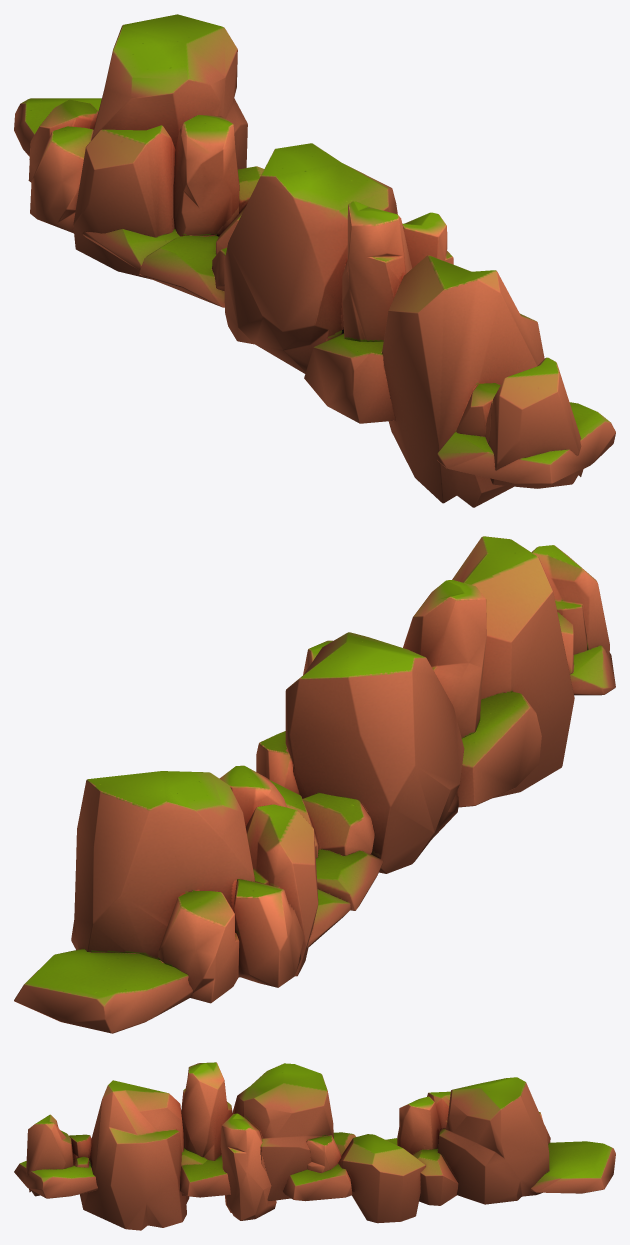
File: WallRocks_02.fbx
3 renders of one model, top to bottom at view 1: azimuth 30°, elevation 25°; view 2: azimuth 150°, elevation 25°; view 3: azimuth 270°, elevation 25°, orthographic. The views are drawn at different scales.
Parts seen in each view (by area): view 1: RockFountainLight_low.019; view 2: RockFountainLight_low.019; view 3: RockFountainLight_low.019.
Part boxes in pixels (x1,y1,x2,y2): RockFountainLight_low.019: (14, 14, 615, 507); RockFountainLight_low.019: (14, 536, 615, 1033); RockFountainLight_low.019: (14, 1062, 615, 1230).
Size of the model in its own units: 779 by 817 by 3227.
